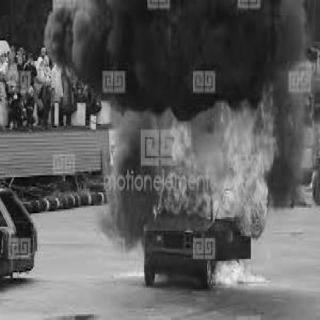Fire: (124, 78, 286, 294)
Smoke: (38, 0, 314, 111)
